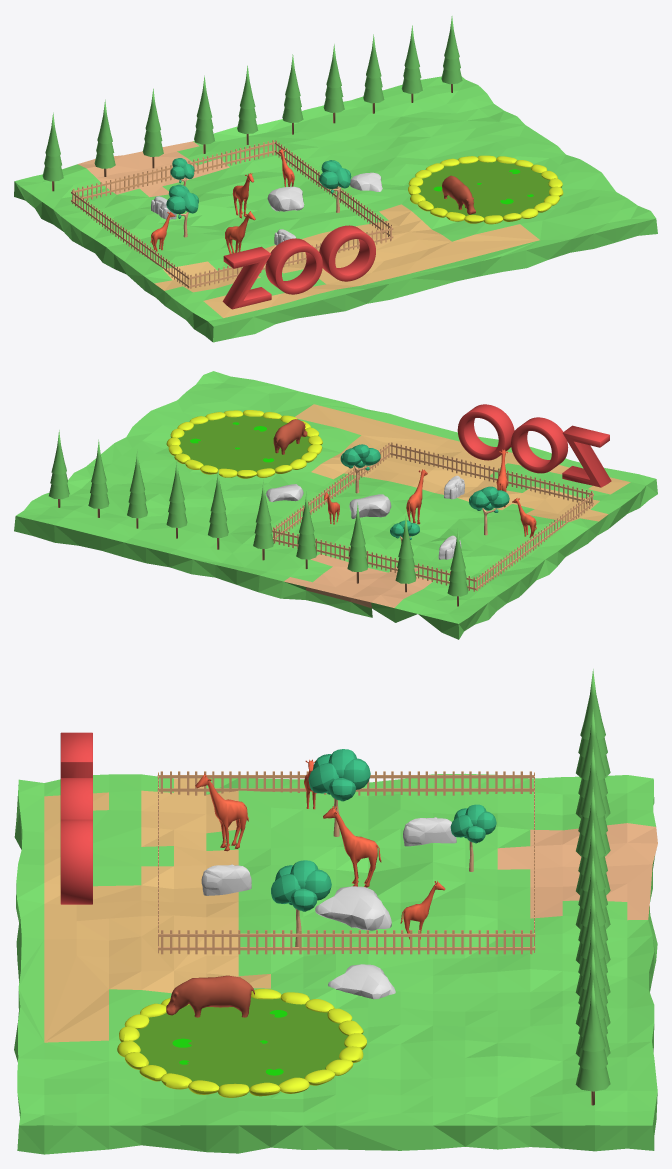
Rendered from zoo.fbx.
3 views of the same model, one above another, from view 1: azimuth 30°, elevation 25°; view 2: azimuth 150°, elevation 25°; view 3: azimuth 270°, elevation 25° (orthographic). The views are drawn at different scales.
Parts seen in each view (by area): view 1: terrain_LOD0, Pond_LOD0, Text_LOD0, fence_LOD0.002, fence_LOD0.003, fence_LOD0.001, fence_LOD0, tree_LOD0, tree_LOD0.002, Firtree_4_LOD0.007, Firtree_4_LOD0.006, Firtree_4_LOD0.002 (+11 smaller); view 2: terrain_LOD0, Pond_LOD0, Text_LOD0, fence_LOD0, fence_LOD0.003, fence_LOD0.002, fence_LOD0.001, tree_LOD0, tree_LOD0.002, Firtree_4_LOD0.002, Firtree_4_LOD0.004, Firtree_4_LOD0.005 (+12 smaller); view 3: terrain_LOD0, Pond_LOD0, Text_LOD0, fence_LOD0.001, fence_LOD0.003, Hippo, tree_LOD0, tree_LOD0.002, rock_LOD0, Firtree_4_LOD0.009, rock_LOD0.001, tree_LOD0.001 (+14 smaller).
Boxes of the visible parts, x1,y1,x2,y2 form: terrain_LOD0: (14,76,657,342); Pond_LOD0: (408,155,563,224); Text_LOD0: (222,225,375,309); fence_LOD0.002: (71,140,275,201); fence_LOD0.003: (71,190,189,288); fence_LOD0.001: (275,140,392,239); fence_LOD0: (189,226,393,288); tree_LOD0: (166,184,198,237); tree_LOD0.002: (319,160,351,212); Firtree_4_LOD0.007: (363,34,384,113); Firtree_4_LOD0.006: (323,44,344,123); Firtree_4_LOD0.002: (142,88,163,168); terrain_LOD0: (14,371,657,639); Pond_LOD0: (166,410,322,478); Text_LOD0: (457,404,611,487); fence_LOD0: (390,442,593,503); fence_LOD0.003: (476,492,593,590); fence_LOD0.002: (272,528,476,591); fence_LOD0.001: (272,442,390,541); tree_LOD0: (469,486,509,535); tree_LOD0.002: (340,444,380,493); Firtree_4_LOD0.002: (347,502,368,583); Firtree_4_LOD0.004: (253,479,273,560); Firtree_4_LOD0.005: (208,469,228,549); terrain_LOD0: (14,773,657,1154); Pond_LOD0: (117,989,366,1097); Text_LOD0: (60,732,92,904); fence_LOD0.001: (158,930,535,954); fence_LOD0.003: (157,771,533,795); Hippo: (166,975,254,1017); tree_LOD0: (308,749,370,836); tree_LOD0.002: (271,860,331,946); rock_LOD0: (315,886,391,930); Firtree_4_LOD0.009: (575,980,610,1105); rock_LOD0.001: (328,964,395,999); tree_LOD0.001: (450,804,496,871).
Size of what is drawn, in the model's own units: 10163 by 2057 by 7861.
